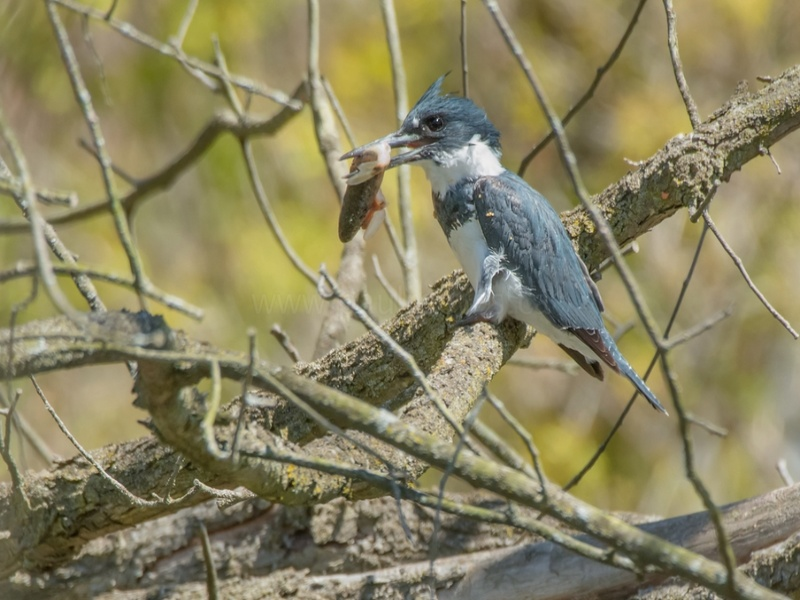kingfisher: (346, 72, 672, 420)
